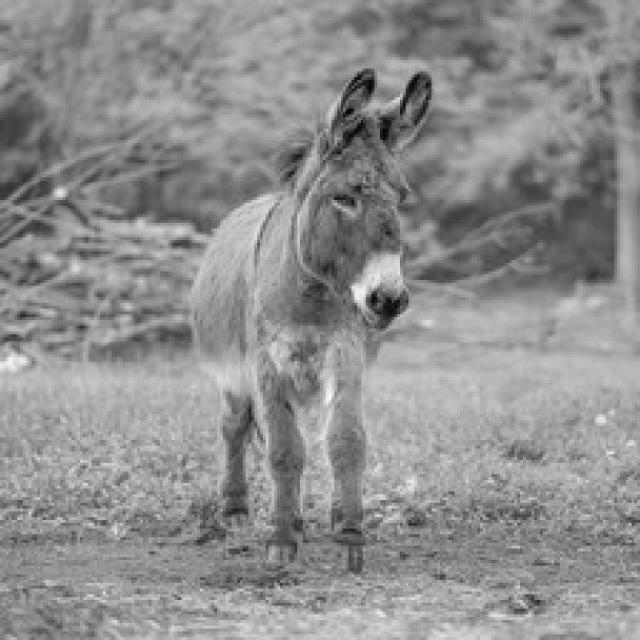Donkey: (186, 66, 431, 574)
